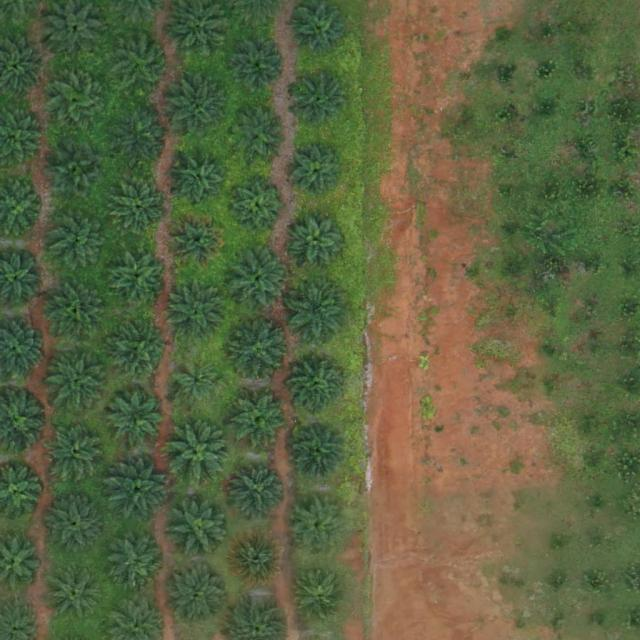Healthy: (112, 32, 175, 95), (167, 79, 230, 142), (285, 279, 348, 342), (227, 320, 290, 383), (107, 248, 170, 311), (45, 423, 108, 486), (44, 495, 107, 558), (167, 564, 230, 627), (112, 107, 174, 170), (226, 249, 288, 312), (170, 423, 232, 486), (108, 321, 170, 384), (107, 461, 169, 524), (49, 208, 111, 271), (47, 281, 109, 344), (46, 349, 108, 412), (169, 499, 231, 562), (167, 282, 229, 344), (49, 71, 104, 126), (51, 146, 106, 201), (230, 39, 285, 94), (232, 109, 287, 164), (294, 74, 349, 129), (291, 145, 346, 200), (292, 214, 347, 269), (292, 423, 347, 478), (230, 178, 285, 233), (234, 393, 289, 448), (230, 462, 285, 517), (113, 181, 168, 236), (49, 566, 104, 621), (114, 533, 169, 588), (296, 571, 351, 626), (173, 154, 227, 209), (292, 362, 346, 417), (292, 501, 346, 556), (110, 391, 164, 446)
Small: (174, 362, 221, 409)
Yellow: (170, 214, 225, 269), (230, 531, 285, 586)
